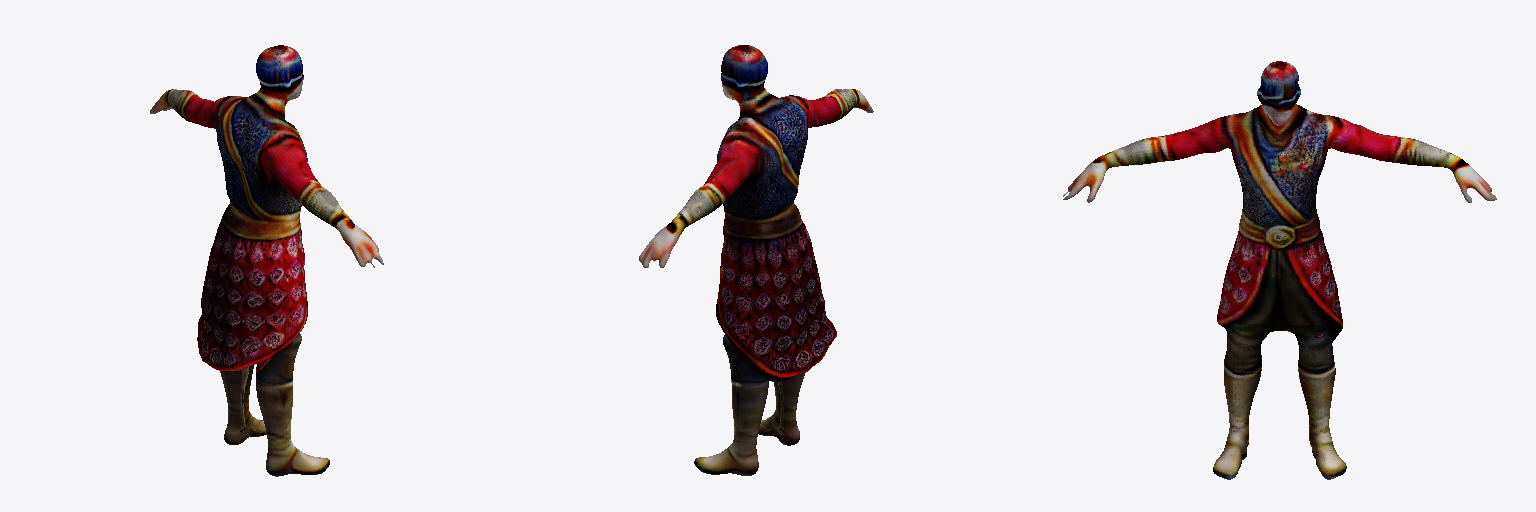
The picture shows the model from 3 angles: view 1: azimuth 30°, elevation 25°; view 2: azimuth 150°, elevation 25°; view 3: azimuth 270°, elevation 25°; orthographic projection.
Visible parts, largest first — view 1: mesh; view 2: mesh; view 3: mesh.
Boxes of the visible parts, <box> form: mesh: <box>150,45,383,476</box>; mesh: <box>639,45,873,475</box>; mesh: <box>1063,61,1496,479</box>.
Size of the model in its own units: 0.2486 by 0.9997 by 0.9652.
1 materials, 1 textured.